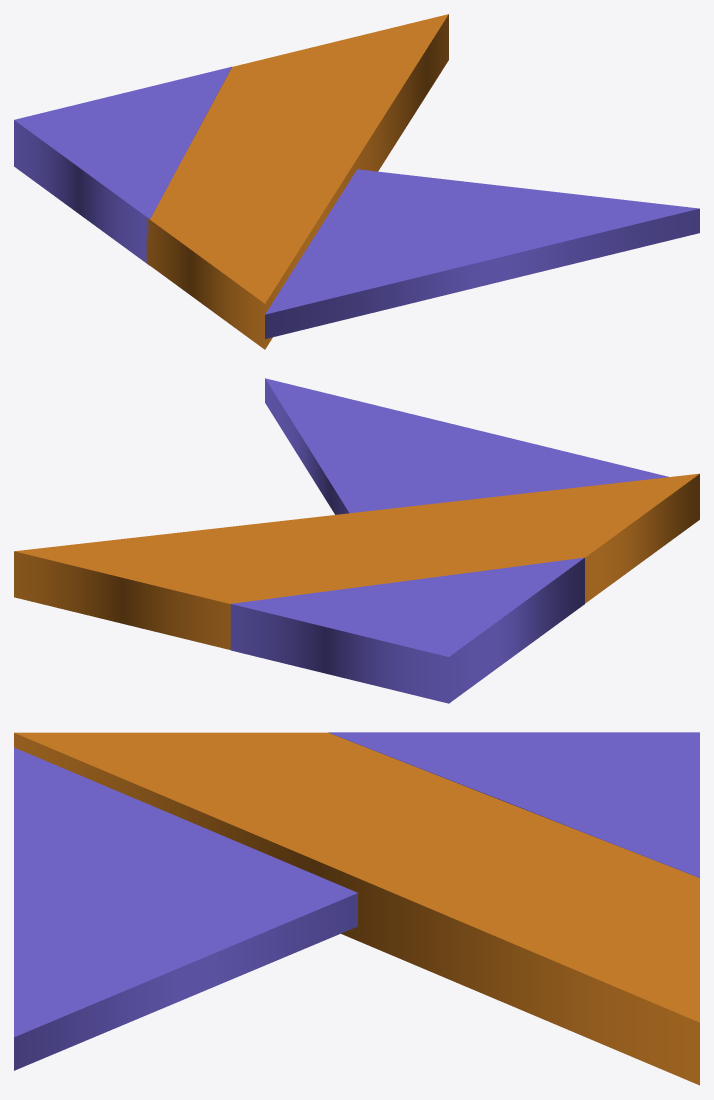
File: kotlin.gltf
3 renders of one model, top to bottom at view 1: azimuth 30°, elevation 25°; view 2: azimuth 150°, elevation 25°; view 3: azimuth 270°, elevation 25°, orthographic. The views are drawn at different scales.
Parts seen in each view (by area): view 1: Curve.001, XMLID_2_, Curve; view 2: Curve.001, Curve, XMLID_2_; view 3: Curve.001, XMLID_2_, Curve.
Boxes of the visible parts, x1,y1,x2,y2 form: Curve.001: (146, 14, 448, 349); XMLID_2_: (265, 169, 699, 338); Curve: (14, 66, 231, 265); Curve.001: (14, 473, 699, 649); Curve: (230, 557, 584, 703); XMLID_2_: (265, 378, 668, 514); Curve.001: (14, 732, 699, 1085); XMLID_2_: (14, 747, 357, 1070); Curve: (328, 732, 699, 877).
Size of the model in its own units: 2 by 0.2047 by 2.
